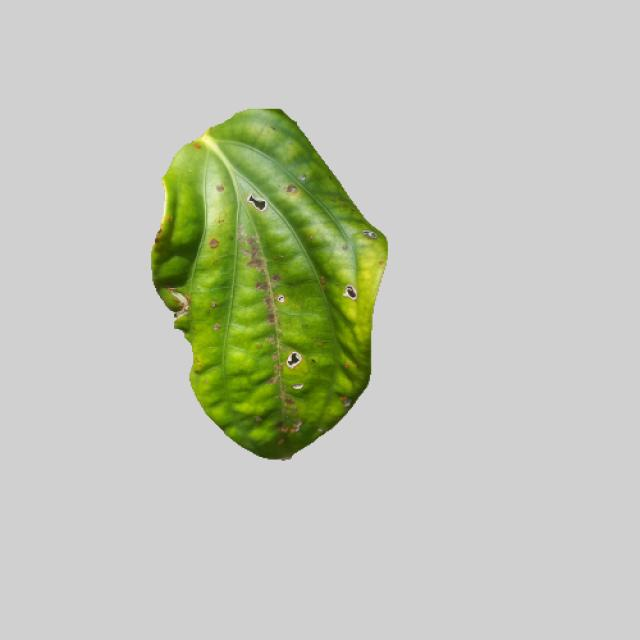yellow-mottle-virus: (133, 103, 412, 460)
